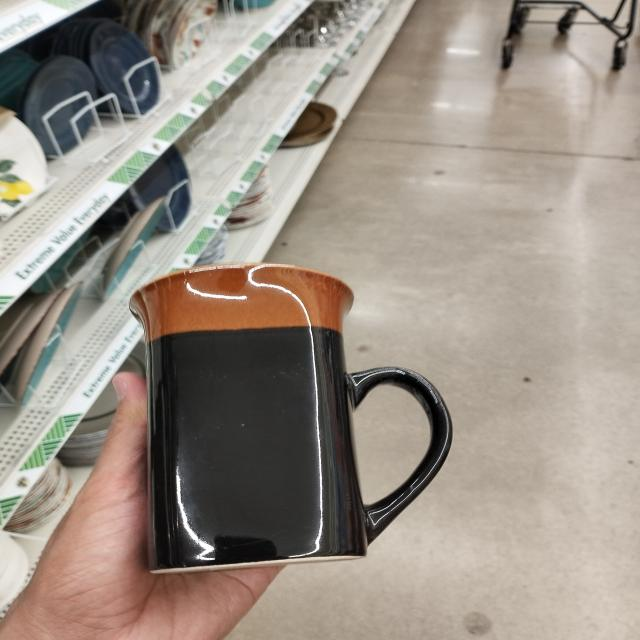Cup: (105, 267, 481, 574)
